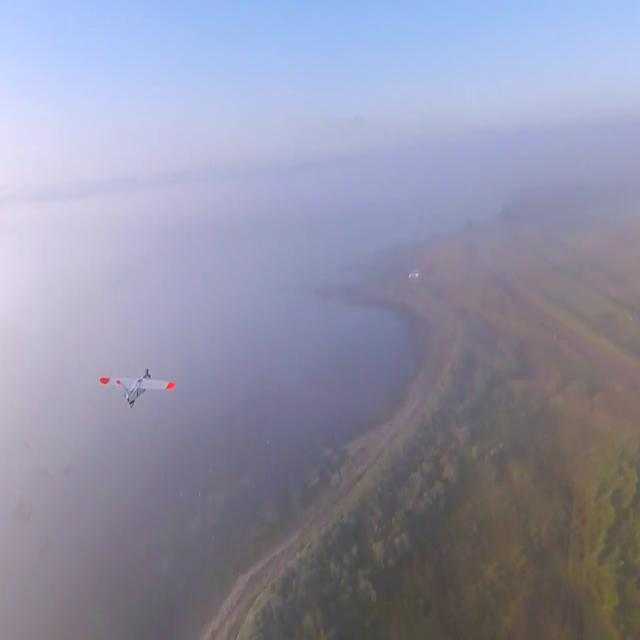iha: (124, 361, 137, 411)
